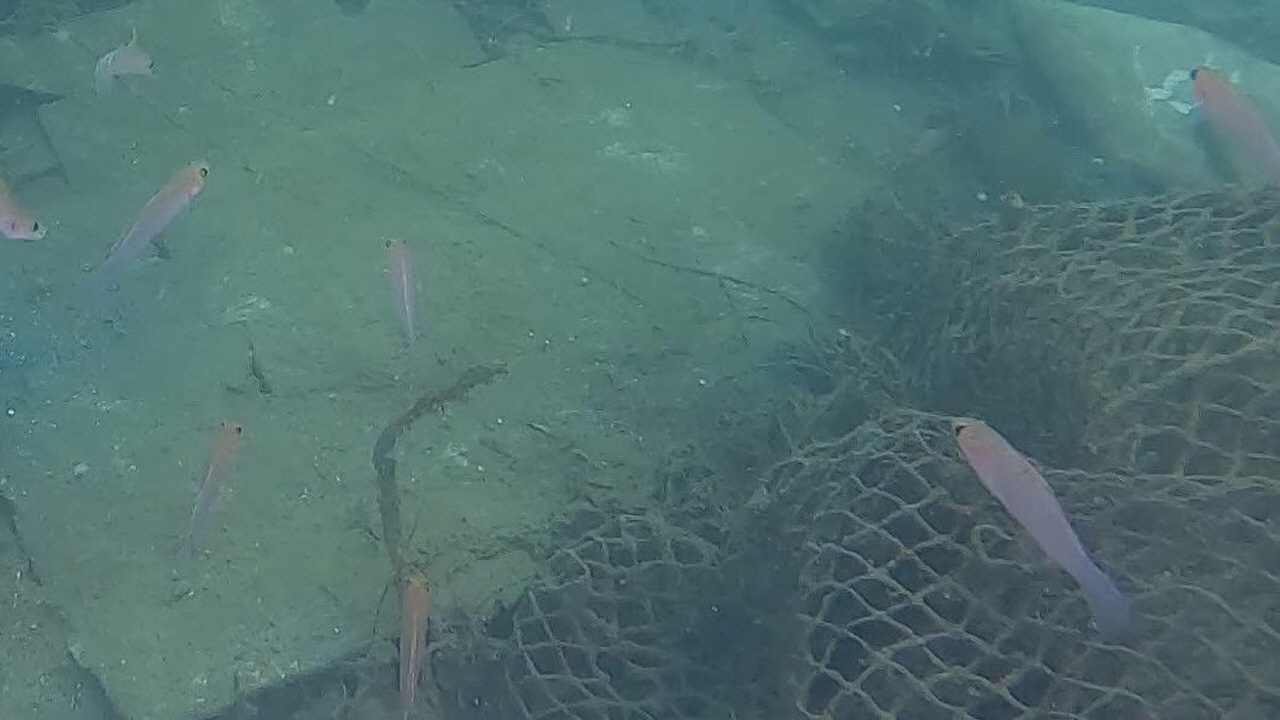fish net: (500, 183, 1280, 720)
